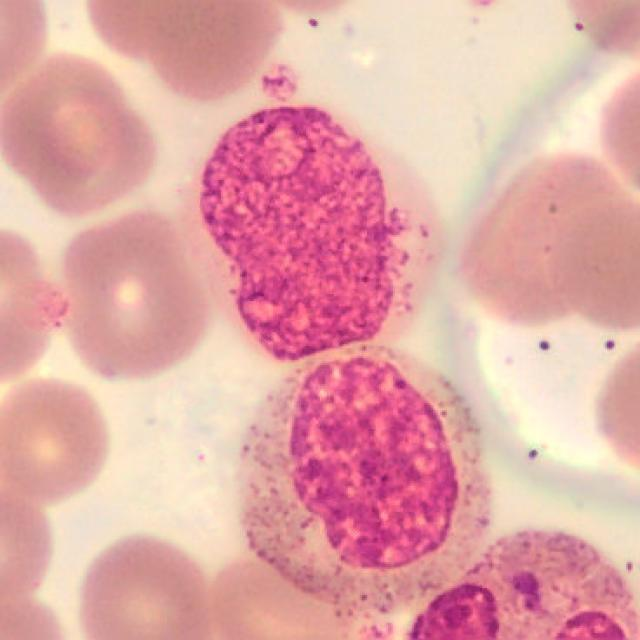Mieloblasto: (200, 107, 405, 362)
Mielocito: (240, 344, 494, 623)
